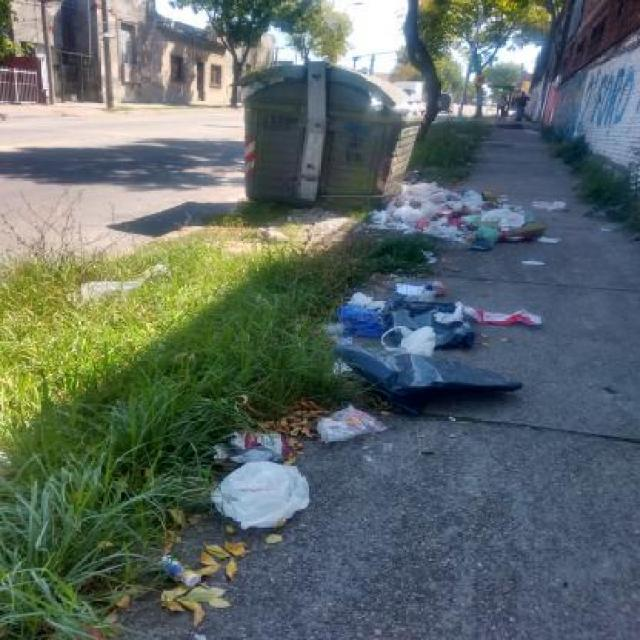garbage: (143, 411, 380, 626), (339, 185, 546, 386)
